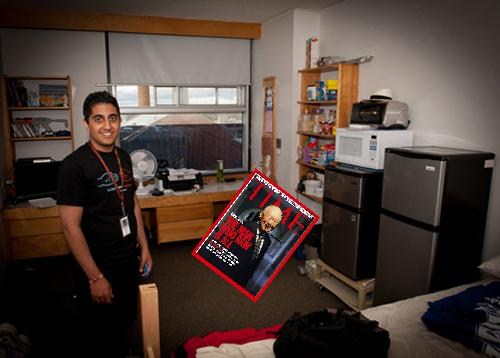times: (191, 165, 322, 303)
